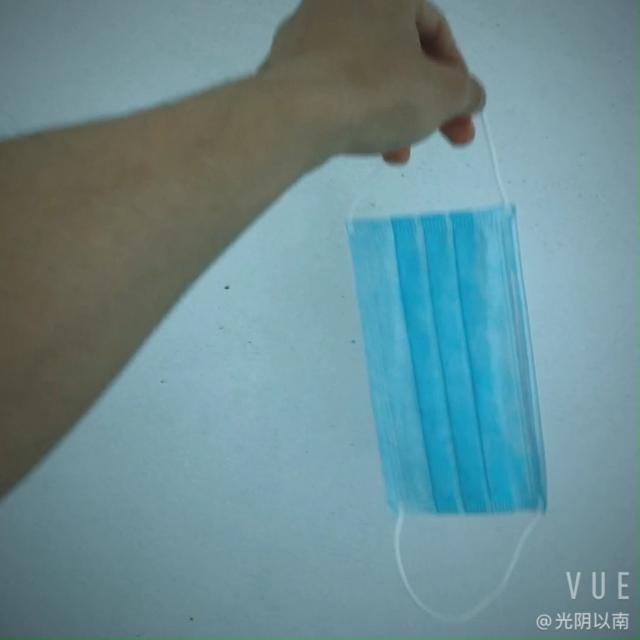face mask: (337, 181, 546, 524)
